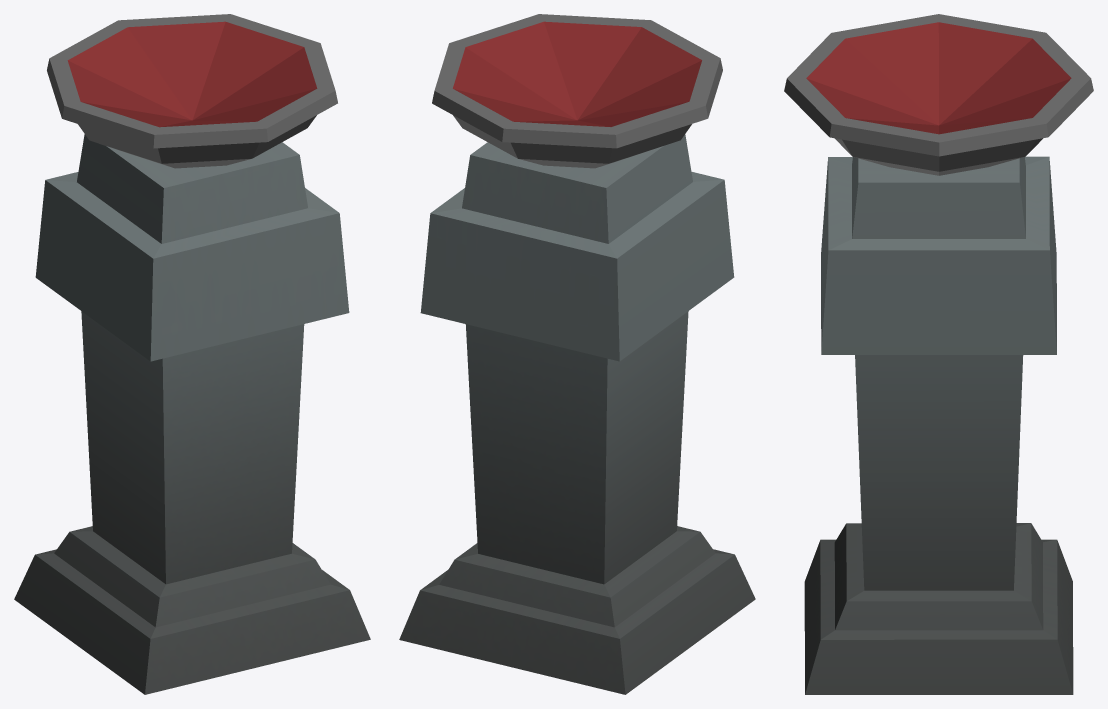
The model's file is ZLPC_Torch_07.FBX.
3 renders of one model, left to right at view 1: azimuth 30°, elevation 25°; view 2: azimuth 150°, elevation 25°; view 3: azimuth 270°, elevation 25°, orthographic. The views are drawn at different scales.
Visible parts, largest first — view 1: ZLPC_Torch_07; view 2: ZLPC_Torch_07; view 3: ZLPC_Torch_07.
Boxes of the visible parts, left/top/right/bottom form: ZLPC_Torch_07: left=14, top=14, right=370, bottom=694; ZLPC_Torch_07: left=399, top=14, right=755, bottom=694; ZLPC_Torch_07: left=784, top=14, right=1093, bottom=694.
Bounding box in the file's own units: 106 × 211 × 106.
1 material, 1 textured.
